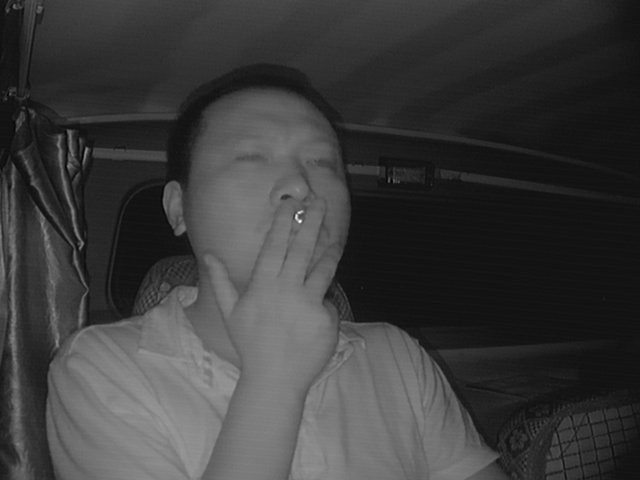hand: (250, 200, 352, 342)
